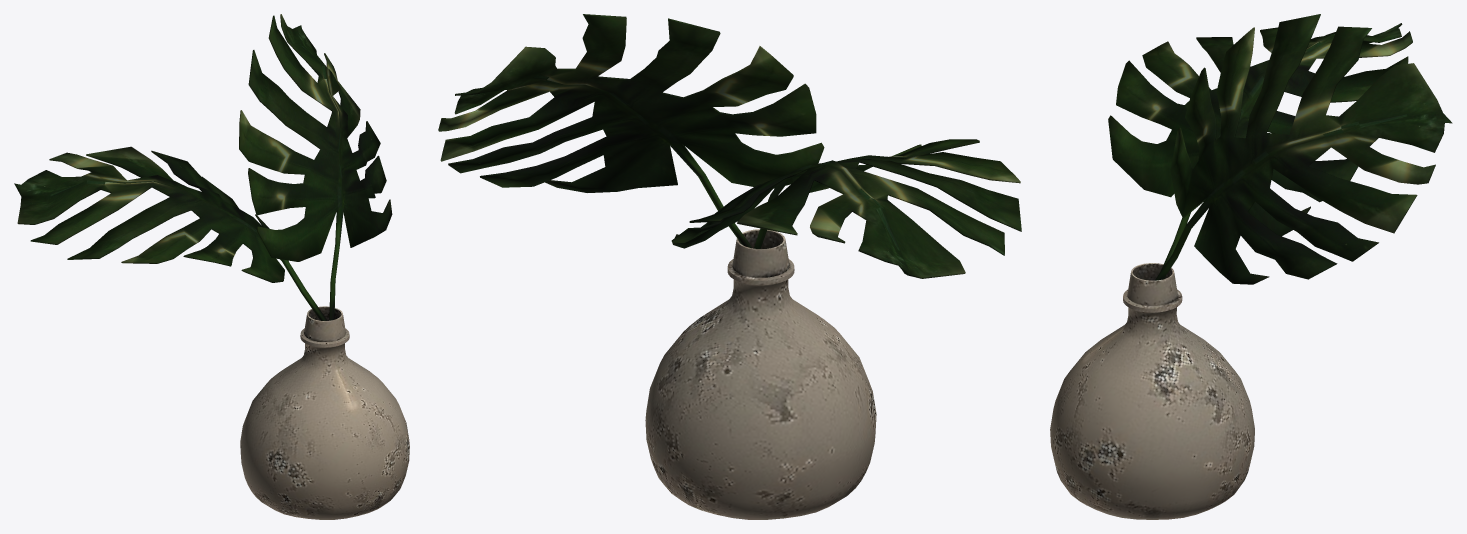
File: Monstera_Plant.glb
3 views of the same model, side by side, from view 1: azimuth 30°, elevation 25°; view 2: azimuth 150°, elevation 25°; view 3: azimuth 270°, elevation 25° (orthographic). The views are drawn at different scales.
Visible parts, largest first — view 1: Monstera_Plant; view 2: Monstera_Plant; view 3: Monstera_Plant.
Part boxes in pixels (box(x1,y1,x2,y2)): Monstera_Plant: box(14, 14, 409, 519); Monstera_Plant: box(438, 14, 1021, 519); Monstera_Plant: box(1050, 14, 1452, 519).
Size of the model in its own units: 0.5736 by 0.5922 by 0.4427.
Materials: 1 (1 with a texture image).
